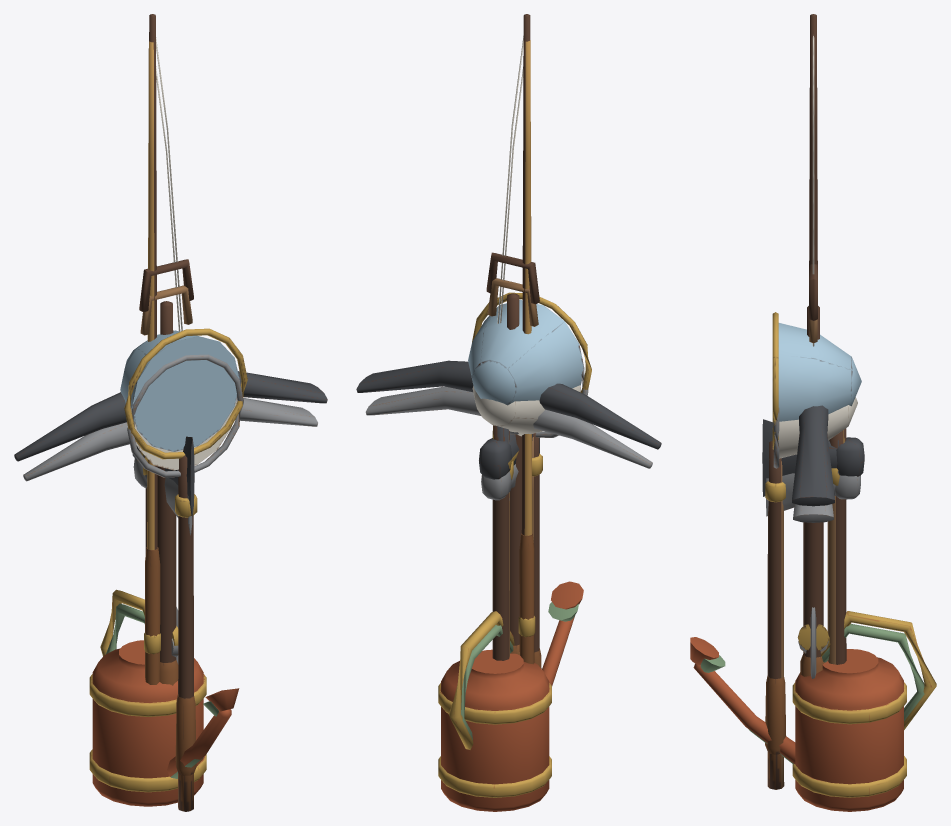
File: outil.glb
The picture shows the model from 3 angles, left to right: view 1: azimuth 30°, elevation 25°; view 2: azimuth 150°, elevation 25°; view 3: azimuth 270°, elevation 25°; orthographic projection. The views are drawn at different scales.
Parts seen in each view (by area): view 1: filet-forge, arrosoir-cuivre, pioche-forgee, canne-fine, pioche, canne, filet, beche-forgee, hache-forgee, arrosoir, beche, hache; view 2: arrosoir-cuivre, filet-forge, pioche-forgee, pioche, hache-forgee, canne-fine, canne, filet, beche-forgee, arrosoir, hache, beche; view 3: arrosoir-cuivre, filet-forge, pioche-forgee, hache-forgee, canne-fine, filet, hache, arrosoir, pioche, beche-forgee, serpe.
Part boxes in pixels (x1=…): filet-forge: x1=120, y1=328, x2=247, y2=811; arrosoir-cuivre: x1=89, y1=589, x2=239, y2=806; pioche-forgee: x1=14, y1=371, x2=327, y2=685; canne-fine: x1=144, y1=14, x2=182, y2=684; pioche: x1=23, y1=397, x2=317, y2=481; canne: x1=147, y1=41, x2=180, y2=656; filet: x1=127, y1=354, x2=243, y2=477; beche-forgee: x1=139, y1=259, x2=193, y2=334; hache-forgee: x1=132, y1=436, x2=194, y2=553; arrosoir: x1=106, y1=603, x2=218, y2=778; beche: x1=140, y1=285, x2=192, y2=335; hache: x1=133, y1=458, x2=192, y2=535; arrosoir-cuivre: x1=438, y1=581, x2=583, y2=811; filet-forge: x1=468, y1=292, x2=591, y2=668; pioche-forgee: x1=356, y1=360, x2=661, y2=655; pioche: x1=365, y1=386, x2=652, y2=468; hache-forgee: x1=479, y1=425, x2=539, y2=660; canne-fine: x1=497, y1=14, x2=535, y2=664; canne: x1=500, y1=40, x2=532, y2=535; filet: x1=472, y1=367, x2=588, y2=542; beche-forgee: x1=486, y1=252, x2=539, y2=329; arrosoir: x1=461, y1=602, x2=578, y2=739; hache: x1=481, y1=457, x2=532, y2=657; beche: x1=487, y1=278, x2=538, y2=326; arrosoir-cuivre: x1=690, y1=611, x2=936, y2=811; filet-forge: x1=765, y1=312, x2=861, y2=789; pioche-forgee: x1=792, y1=405, x2=834, y2=676; hache-forgee: x1=762, y1=419, x2=864, y2=664; canne-fine: x1=797, y1=14, x2=829, y2=650; filet: x1=773, y1=397, x2=857, y2=789; hache: x1=766, y1=473, x2=860, y2=664; arrosoir: x1=700, y1=624, x2=924, y2=764; pioche: x1=793, y1=433, x2=833, y2=522; beche-forgee: x1=807, y1=261, x2=819, y2=339; serpe: x1=810, y1=607, x2=816, y2=678.
Bounding box in the file's own units: 0.6237 × 1.55 × 0.45.
Materials: 1 (1 with a texture image).
